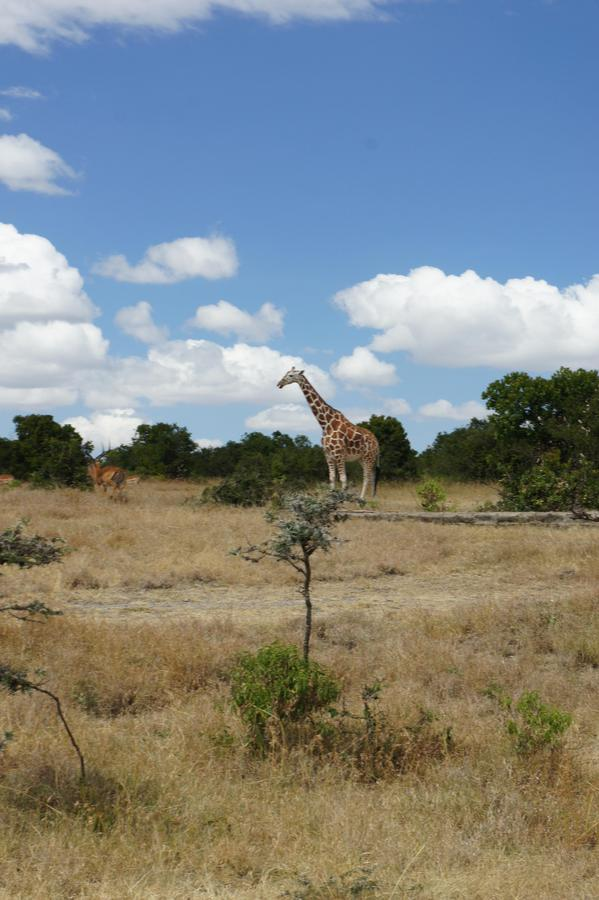giraffe: (277, 363, 383, 481)
